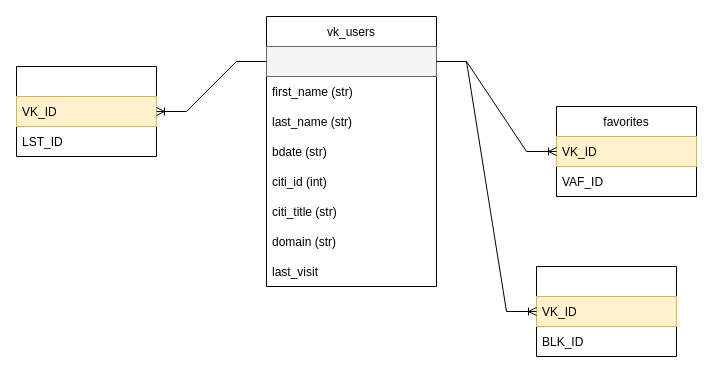
The diagram is 713 pixels wide and 373 high, and some of its shapes have lost their labels. Each missing label, with the box of its shape:
black_list: (536, 266, 676, 356)
last_search: (16, 66, 156, 156)
VK_ID (int) первичный ключ: (266, 46, 436, 76)
